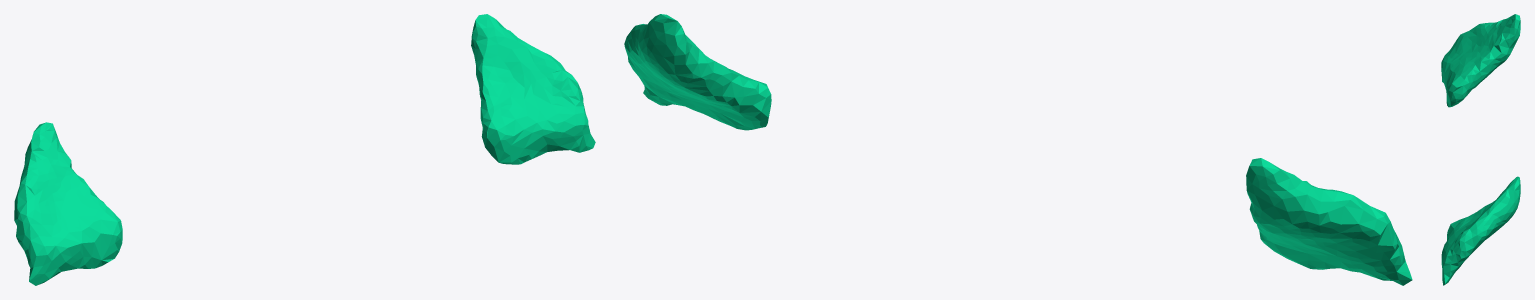
File: 22-PaAC-paraauditory area, caudal part-('0.0000', '1.0000', '0.6902').obj
3 views of the same model, side by side, from view 1: azimuth 30°, elevation 25°; view 2: azimuth 150°, elevation 25°; view 3: azimuth 270°, elevation 25° (orthographic). The views are drawn at different scales.
Size of the model in its own units: 299 by 57.98 by 47.73.
